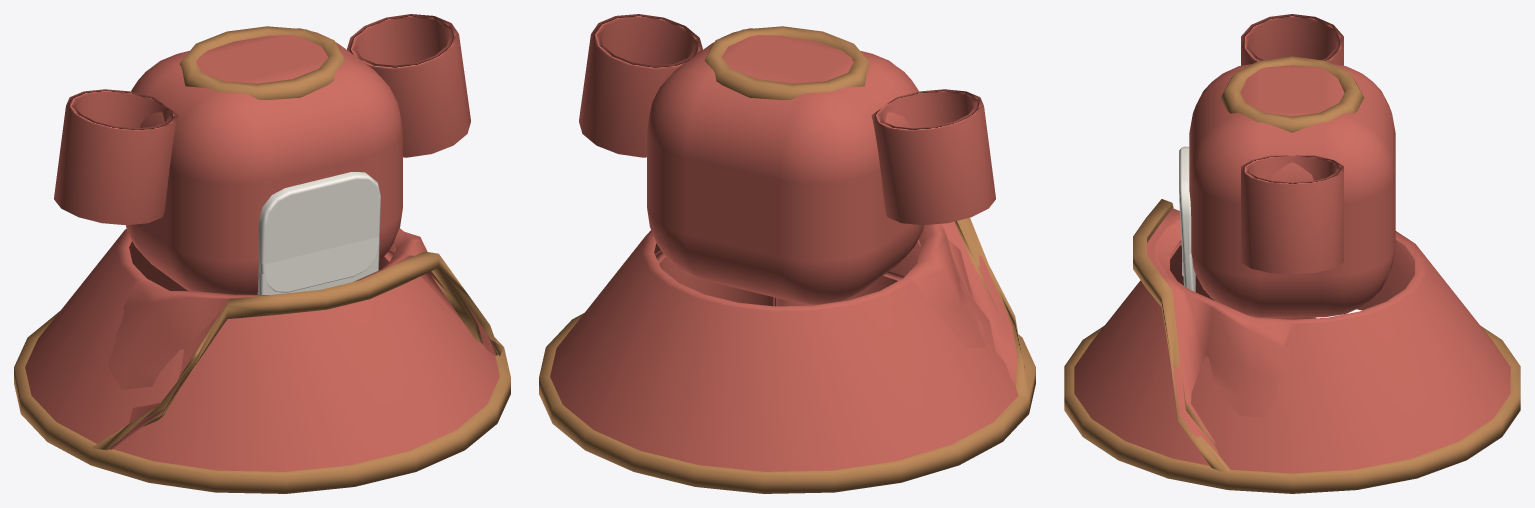
The model's file is alpinist_dress.glb.
The picture shows the model from 3 angles, left to right: view 1: azimuth 30°, elevation 25°; view 2: azimuth 150°, elevation 25°; view 3: azimuth 270°, elevation 25°; orthographic projection. The views are drawn at different scales.
Parts seen in each view (by area): view 1: alpinist_dress_Body, alpinist_dress_Body_sit, alpinist_dress_ArmL, alpinist_dress_ArmR; view 2: alpinist_dress_Body, alpinist_dress_Body_sit, alpinist_dress_ArmL, alpinist_dress_ArmR, alpinist_dress_LegR_sit, alpinist_dress_LegL_sit; view 3: alpinist_dress_Body, alpinist_dress_Body_sit, alpinist_dress_ArmR, alpinist_dress_ArmL.
Part boxes in pixels (x1=…): alpinist_dress_Body: x1=14, y1=26, x2=510, y2=493; alpinist_dress_Body_sit: x1=91, y1=59, x2=503, y2=450; alpinist_dress_ArmL: x1=54, y1=89, x2=178, y2=225; alpinist_dress_ArmR: x1=347, y1=14, x2=470, y2=157; alpinist_dress_Body: x1=539, y1=26, x2=1035, y2=493; alpinist_dress_Body_sit: x1=647, y1=59, x2=1028, y2=396; alpinist_dress_ArmL: x1=871, y1=89, x2=995, y2=225; alpinist_dress_ArmR: x1=579, y1=14, x2=702, y2=157; alpinist_dress_LegR_sit: x1=654, y1=250, x2=777, y2=306; alpinist_dress_LegL_sit: x1=773, y1=271, x2=904, y2=306; alpinist_dress_Body: x1=1064, y1=56, x2=1520, y2=493; alpinist_dress_Body_sit: x1=1133, y1=115, x2=1414, y2=473; alpinist_dress_ArmR: x1=1241, y1=155, x2=1343, y2=274; alpinist_dress_ArmL: x1=1241, y1=14, x2=1343, y2=65.
Size of the model in its own units: 0.648 by 0.5289 by 0.6414.
